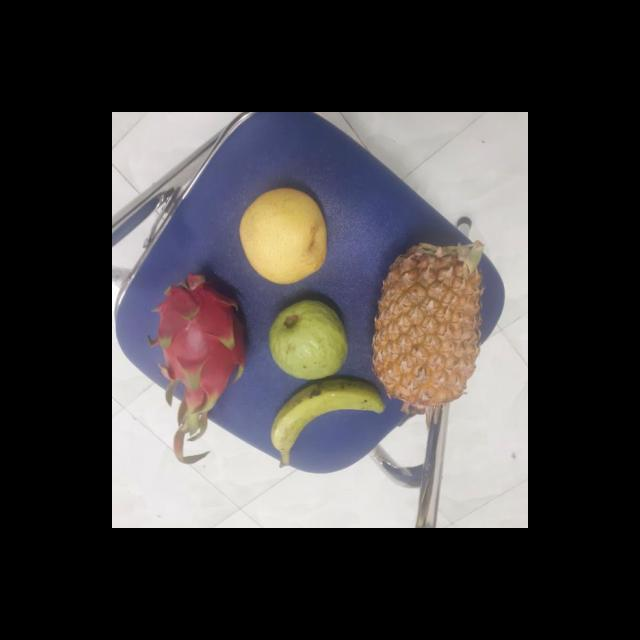banana: (272, 377, 387, 466)
guava: (268, 301, 352, 378)
pear: (236, 188, 332, 284)
pineapple: (373, 242, 498, 401)
pitaya: (155, 273, 252, 412)
